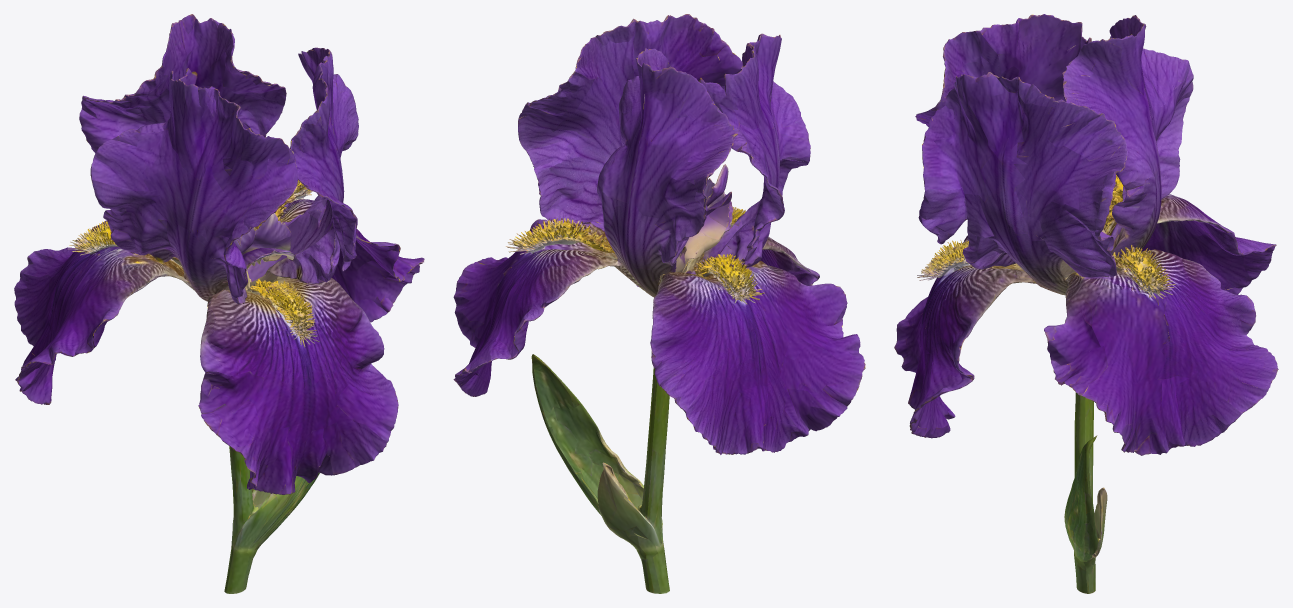
Rendered from iris.glb.
The picture shows the model from 3 angles, left to right: view 1: azimuth 30°, elevation 25°; view 2: azimuth 150°, elevation 25°; view 3: azimuth 270°, elevation 25°; orthographic projection.
Visible parts, largest first — view 1: Mesh_0; view 2: Mesh_0; view 3: Mesh_0.
Boxes of the visible parts, x1,y1,x2,y2 form: Mesh_0: (14,14,424,593); Mesh_0: (453,14,865,593); Mesh_0: (894,14,1278,593).
Bounding box in the file's own units: 1.44 × 1.9 × 1.19.
Materials: 1 (1 with a texture image).
